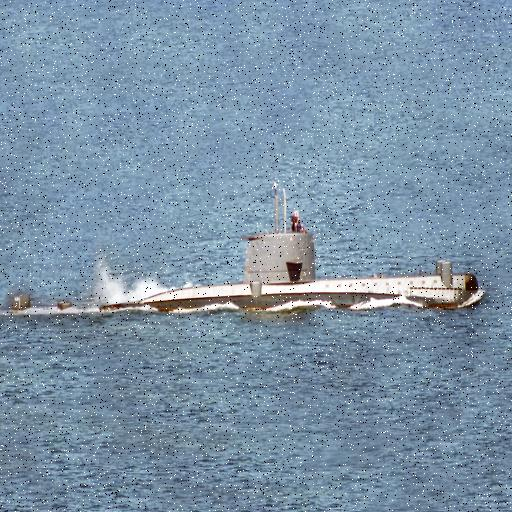submarine: (8, 231, 481, 315)
